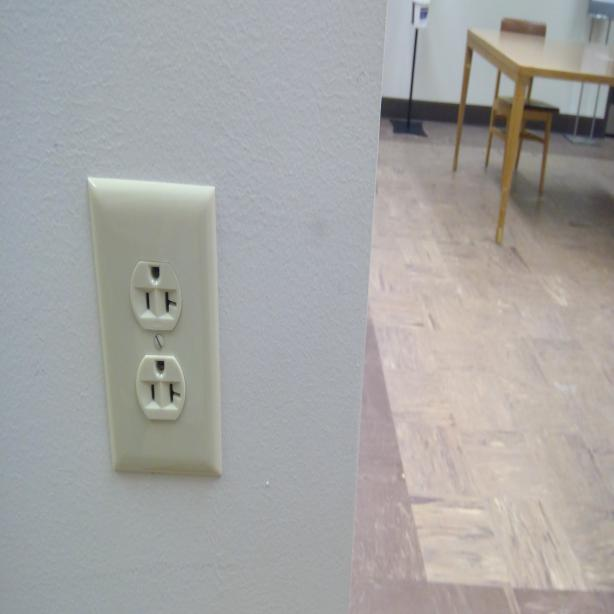typeb: (130, 262, 182, 331), (138, 356, 184, 420)
